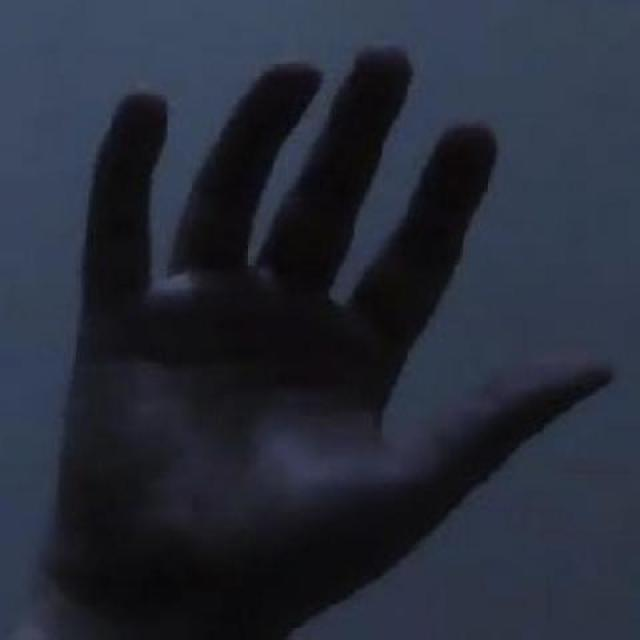Open Hand: (35, 32, 621, 640)
